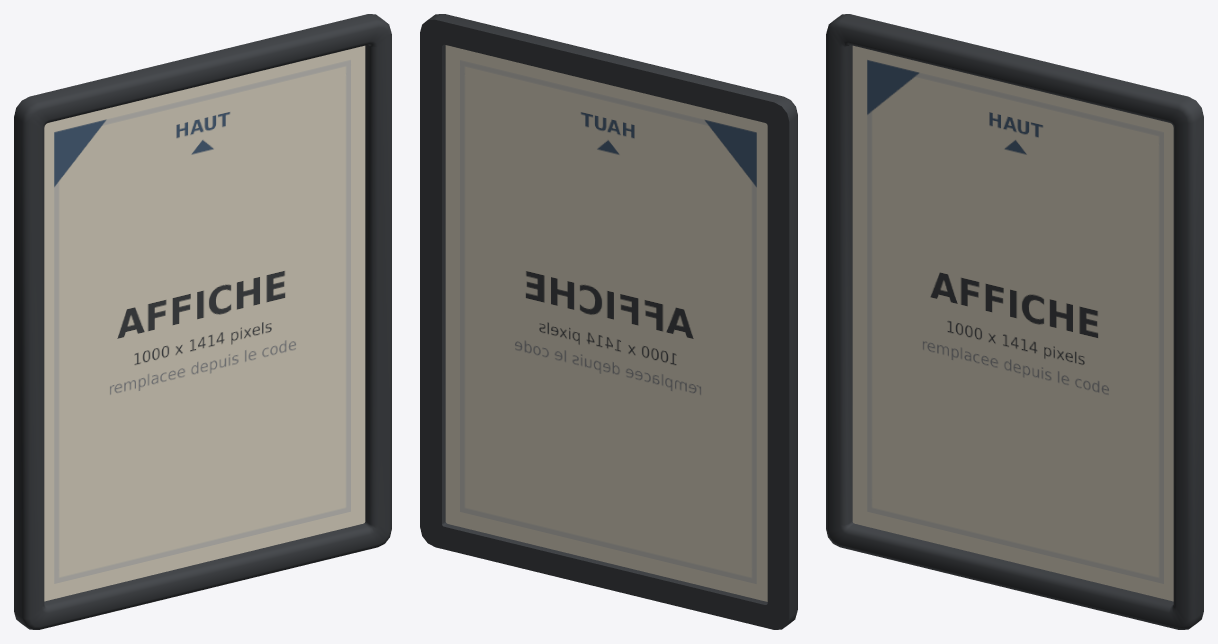
The model's file is affiche_portrait.glb.
3 views of the same model, side by side, from view 1: azimuth 30°, elevation 25°; view 2: azimuth 150°, elevation 25°; view 3: azimuth 330°, elevation 25° (orthographic).
Parts seen in each view (by area): view 1: AFP_Affiche, AFP_Anthracite; view 2: AFP_Affiche, AFP_Anthracite; view 3: AFP_Affiche, AFP_Anthracite.
Part boxes in pixels (<box>): AFP_Affiche: <box>44,45,365,601</box>; AFP_Anthracite: <box>14,14,391,629</box>; AFP_Affiche: <box>445,45,767,601</box>; AFP_Anthracite: <box>420,14,797,629</box>; AFP_Affiche: <box>852,45,1173,601</box>; AFP_Anthracite: <box>826,14,1203,629</box>.
Size of the model in its own units: 0.68 by 0.9285 by 0.035.
Materials: 2 (1 with a texture image).
